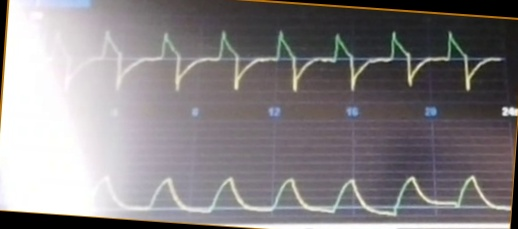Normal Flow: (45, 21, 503, 97)
Normal Volume: (80, 154, 508, 217)
